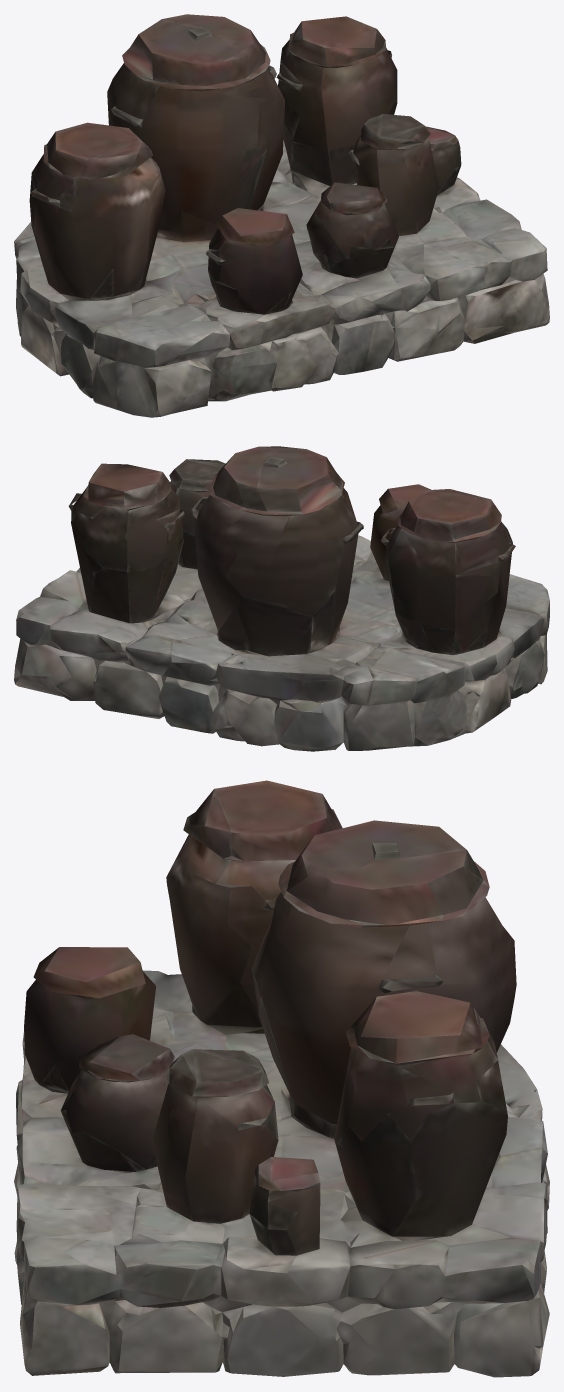
Rendered from jangdok.glb.
3 renders of one model, top to bottom at view 1: azimuth 30°, elevation 25°; view 2: azimuth 150°, elevation 25°; view 3: azimuth 270°, elevation 25°, orthographic. The views are drawn at different scales.
Size of the model in its own units: 1.89 by 1.07 by 1.4.
1 material, 1 textured.
